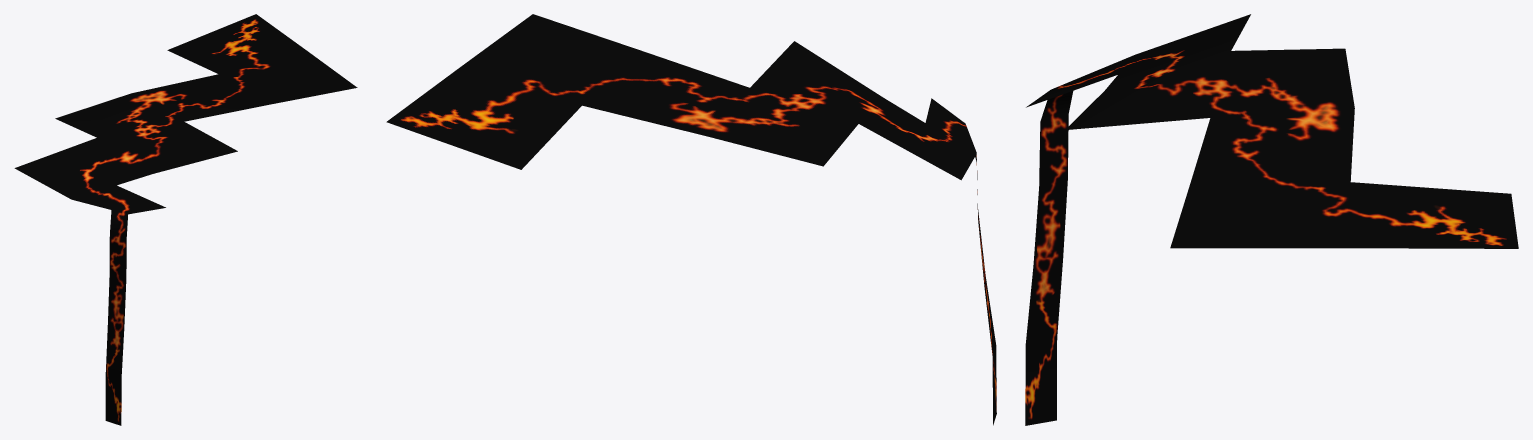
The model's file is env_LavaCracksSwitch02.fbx.
The picture shows the model from 3 angles, left to right: view 1: azimuth 30°, elevation 25°; view 2: azimuth 150°, elevation 25°; view 3: azimuth 270°, elevation 25°; orthographic projection. The views are drawn at different scales.
Parts seen in each view (by area): view 1: polySurface6; view 2: polySurface6; view 3: polySurface6.
Part boxes in pixels (x1=…): polySurface6: x1=14, y1=14, x2=357, y2=425; polySurface6: x1=386, y1=14, x2=996, y2=425; polySurface6: x1=1025, y1=14, x2=1518, y2=425.
Size of the model in its own units: 9205 by 6584 by 7163.
1 material, 1 textured.
